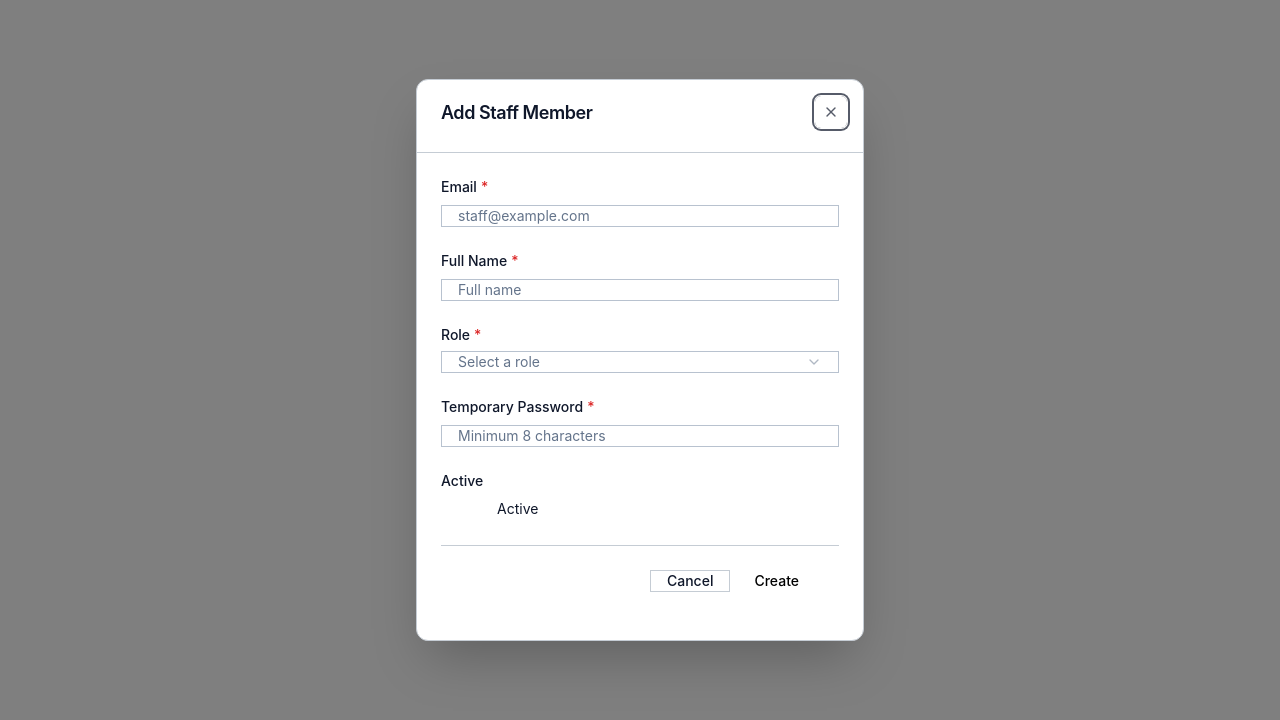
Test: StaffFormDialog › create mode › shows email validation error for invalid email
Type "Valid Name" into the field with placeholder "Full Name" at (640, 290), box [441,279,839,301]
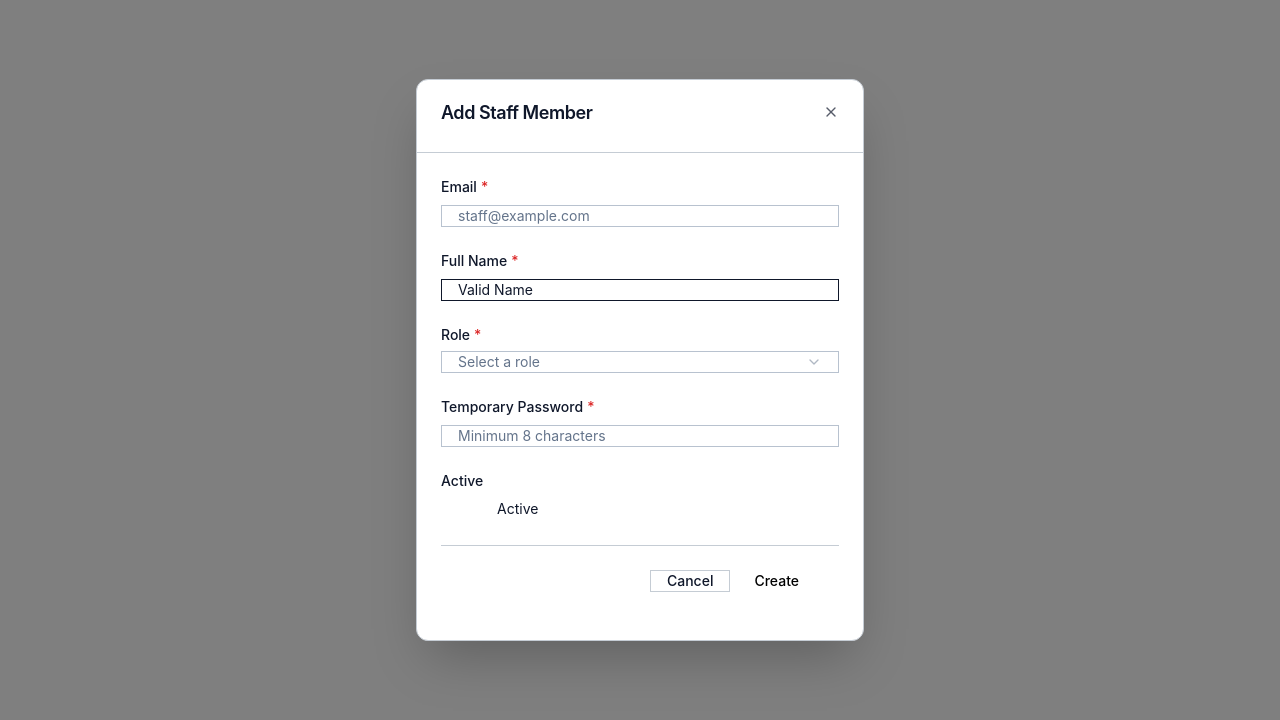
Type "password123" into the password field with placeholder "Minimum 8 characters" at (640, 436), box [441,425,839,447]
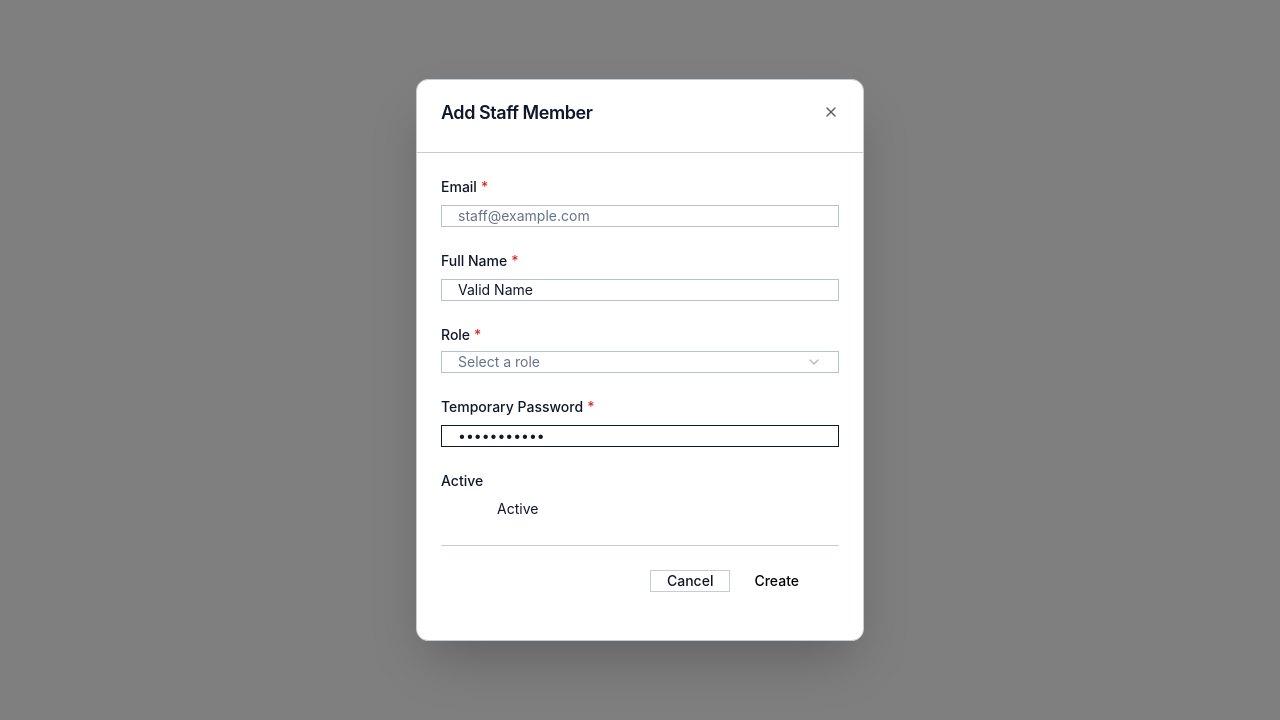
Click the button "Select a role" at (499, 362), box [441,351,839,373]
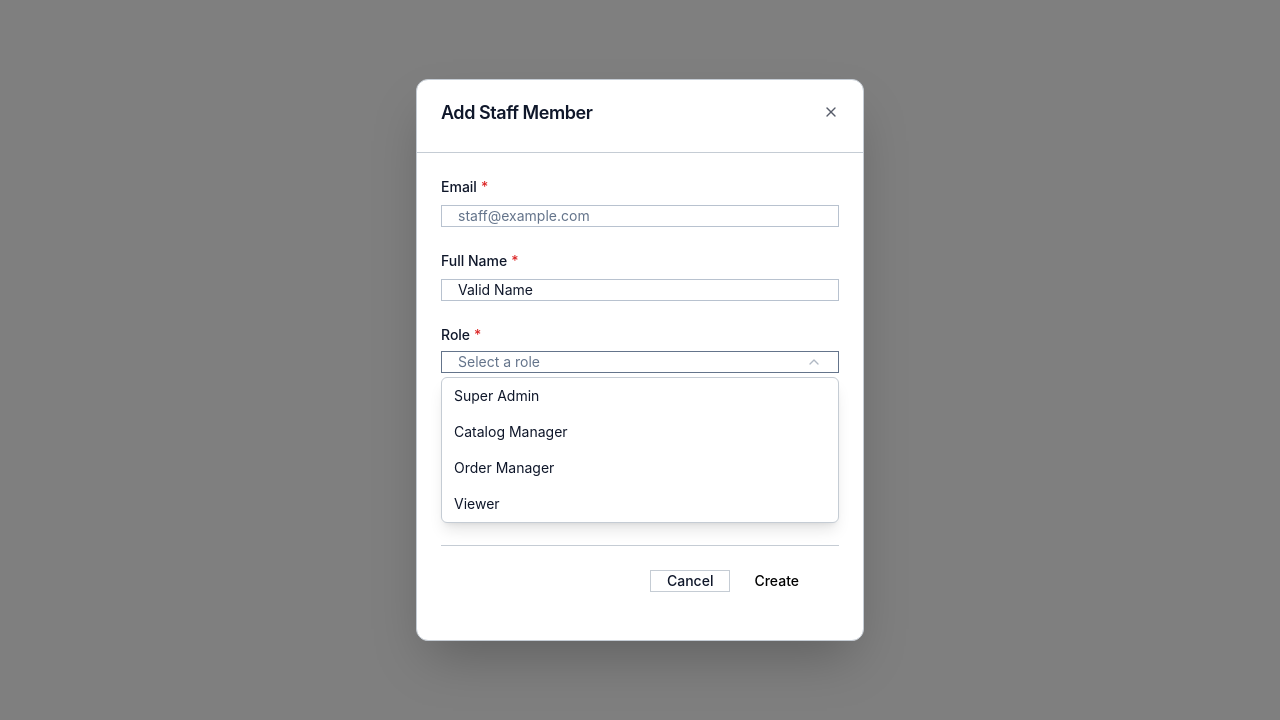
Click the option "Super Admin" at (497, 396), box [454,387,539,404]
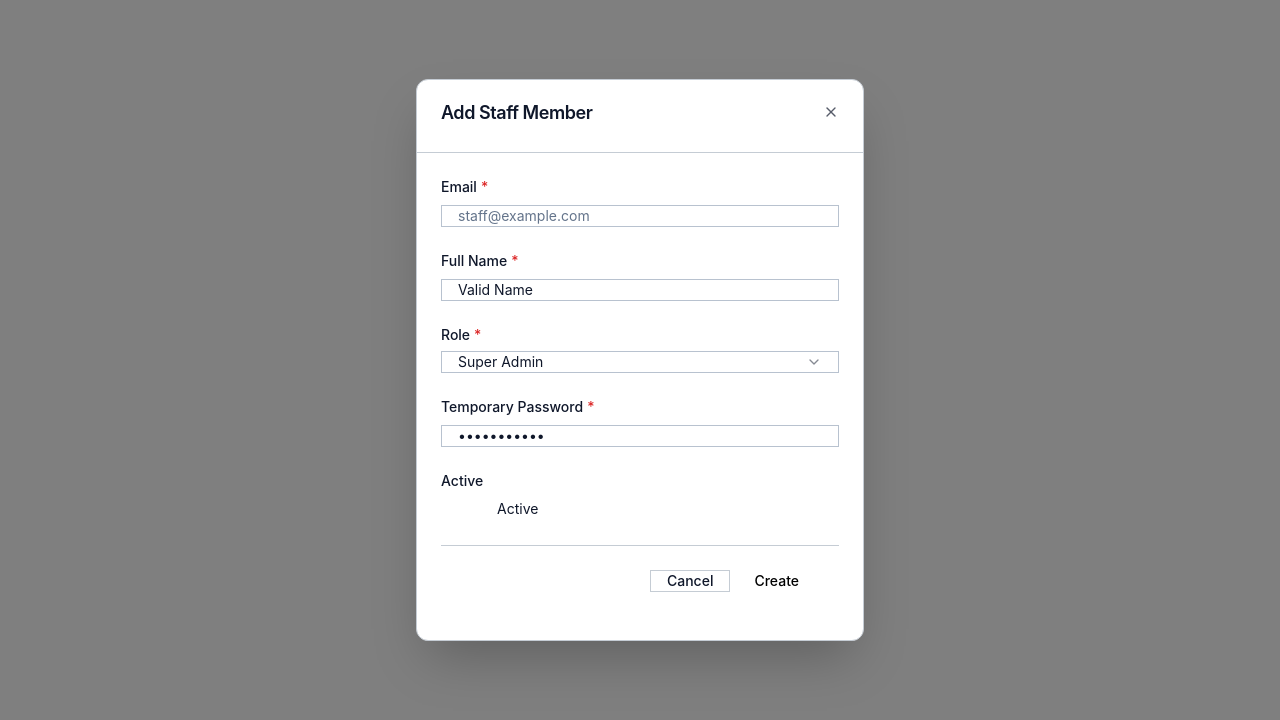
Click the button "Create" at (777, 581), box [738,571,815,591]
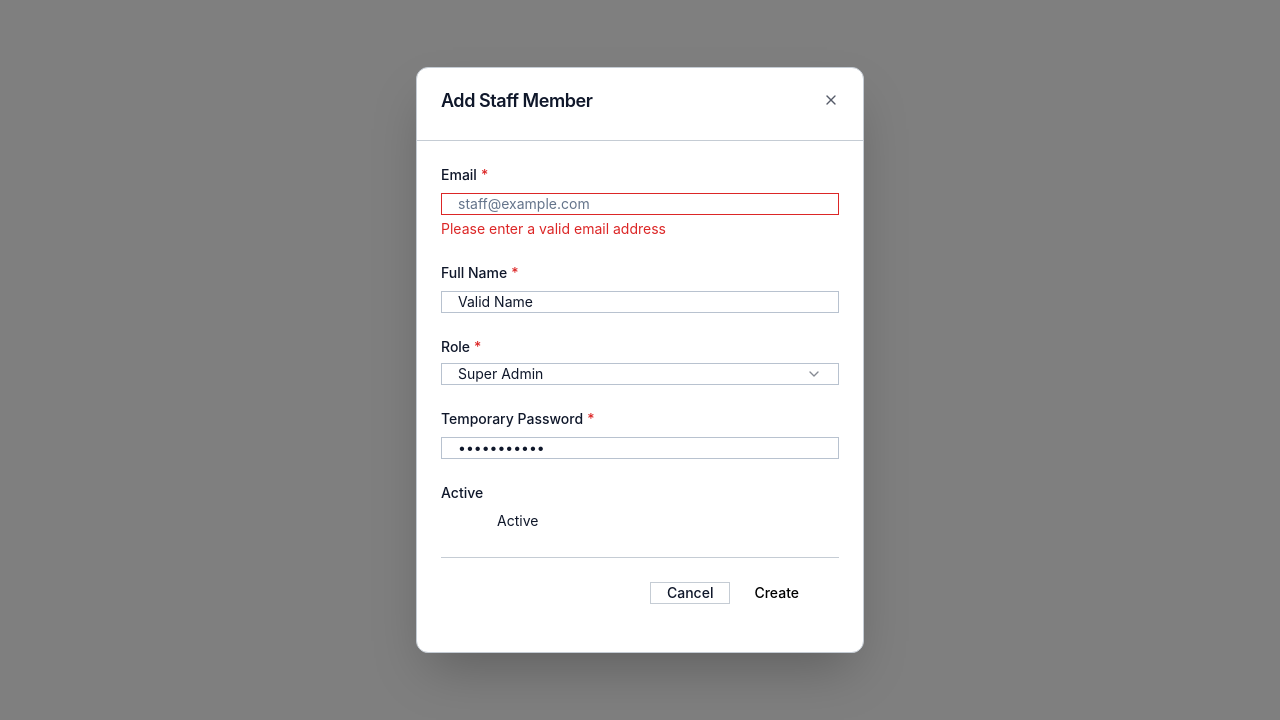
Check: the text "Please enter a valid email address" is shown, box [441,220,666,237]
